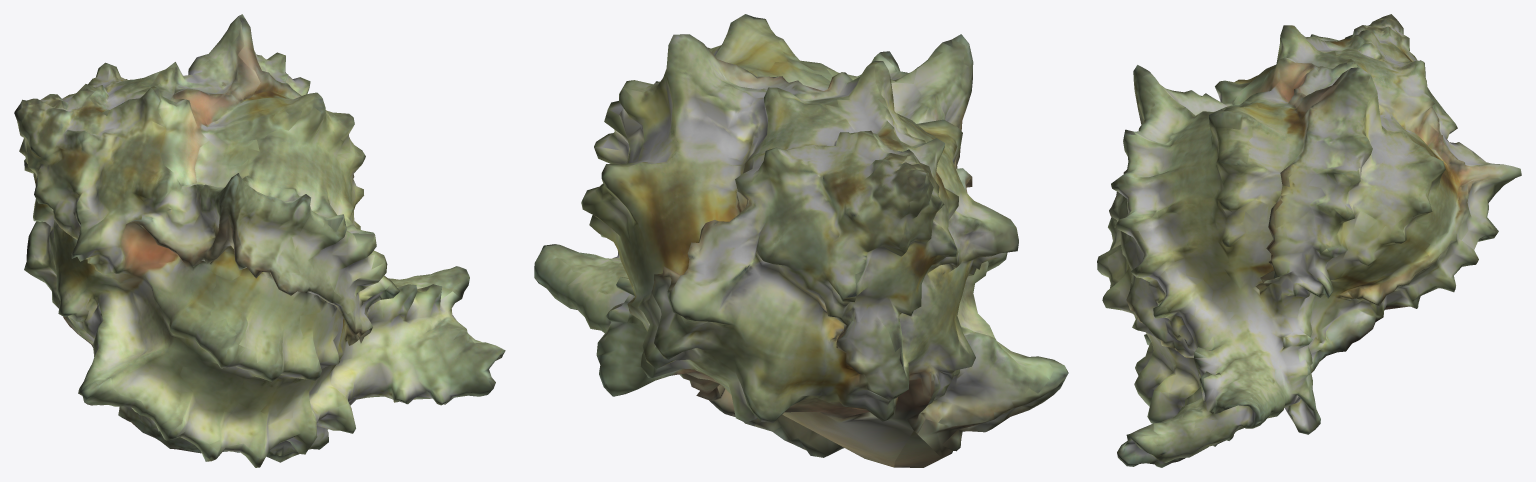
The model's file is sea shell_FBX_still.fbx.
The picture shows the model from 3 angles, left to right: view 1: azimuth 30°, elevation 25°; view 2: azimuth 150°, elevation 25°; view 3: azimuth 270°, elevation 25°; orthographic projection. The views are drawn at different scales.
Visible parts, largest first — view 1: sea shell_gameasset; view 2: sea shell_gameasset; view 3: sea shell_gameasset.
Boxes of the visible parts, x1,y1,x2,y2 form: sea shell_gameasset: (14,14,505,467); sea shell_gameasset: (534,14,1068,467); sea shell_gameasset: (1097,14,1521,467).
Size of the model in its own units: 73.99 by 67.59 by 67.13.
1 material, 1 textured.
